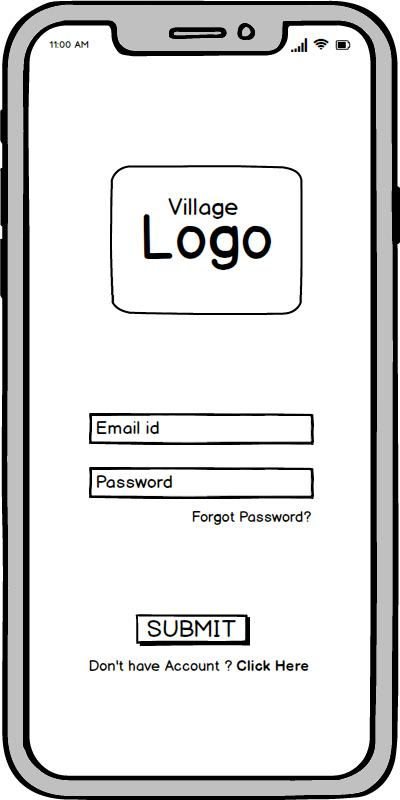EditText: (89, 466, 315, 500), (88, 413, 315, 446)
Image: (110, 164, 303, 316)
TextButton: (134, 613, 251, 646), (88, 659, 310, 673), (191, 509, 312, 526)
